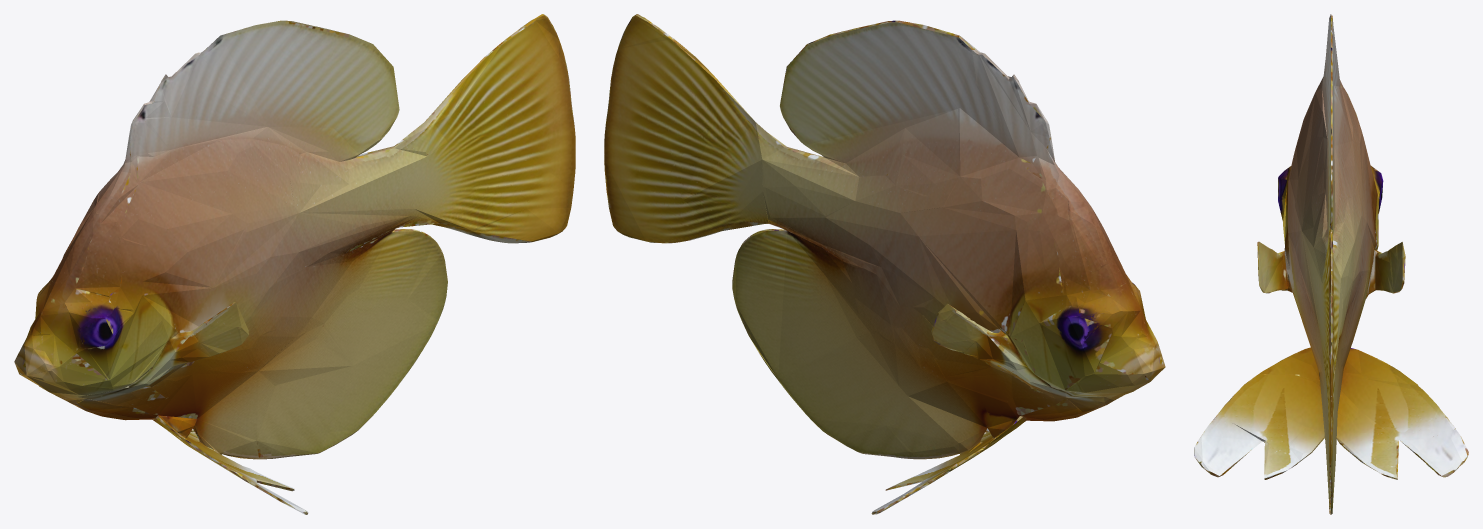
Rendered from fish_0018_smpl23_resized.glb.
3 renders of one model, left to right at view 1: azimuth 30°, elevation 25°; view 2: azimuth 150°, elevation 25°; view 3: azimuth 270°, elevation 25°, orthographic.
Visible parts, largest first — view 1: world; view 2: world; view 3: world.
Part boxes in pixels (left/top/right/bottom): world: left=14, top=14, right=575, bottom=514; world: left=604, top=14, right=1165, bottom=514; world: left=1194, top=14, right=1468, bottom=514.
Size of the model in its own units: 1.98 by 1.52 by 0.8437.
Materials: 1 (1 with a texture image).
